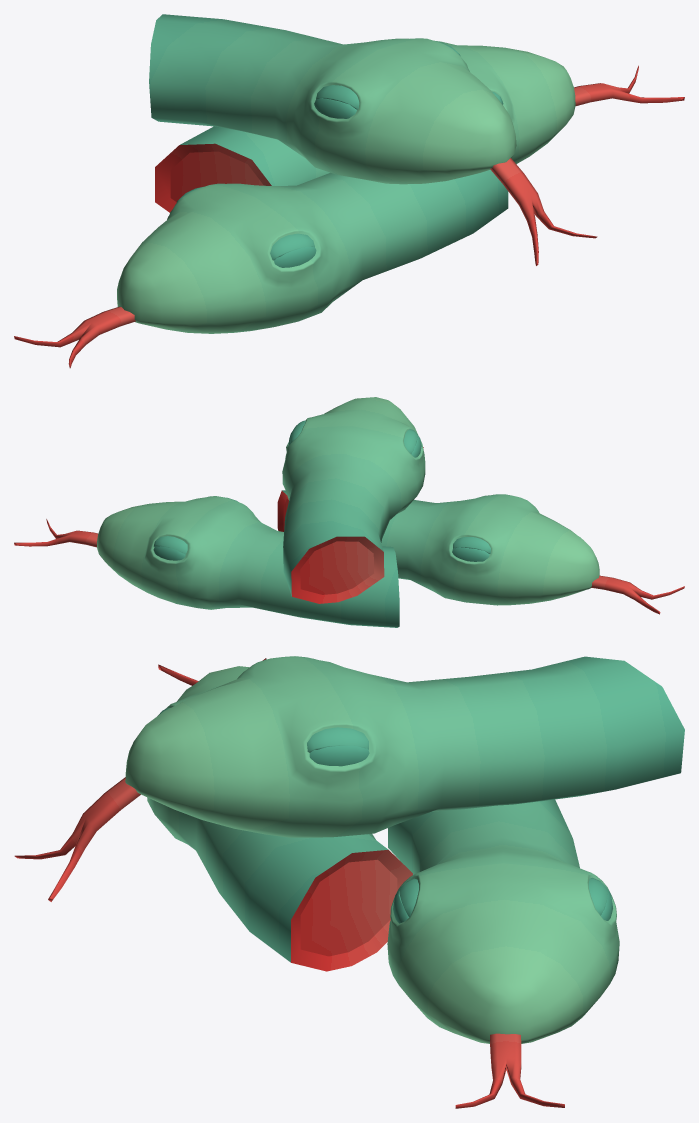
Rendered from Snake_Tongue_adjusted.fbx.
3 views of the same model, one above another, from view 1: azimuth 30°, elevation 25°; view 2: azimuth 150°, elevation 25°; view 3: azimuth 270°, elevation 25° (orthographic). The views are drawn at different scales.
Parts seen in each view (by area): view 1: Snake_Tongue_adjusted; view 2: Snake_Tongue_adjusted; view 3: Snake_Tongue_adjusted.
Part boxes in pixels (bbox=[...]): Snake_Tongue_adjusted: bbox=[14, 14, 684, 368]; Snake_Tongue_adjusted: bbox=[14, 397, 684, 627]; Snake_Tongue_adjusted: bbox=[14, 656, 684, 1108].
Bounding box in the file's own units: 23.47 × 6.35 × 14.88.
